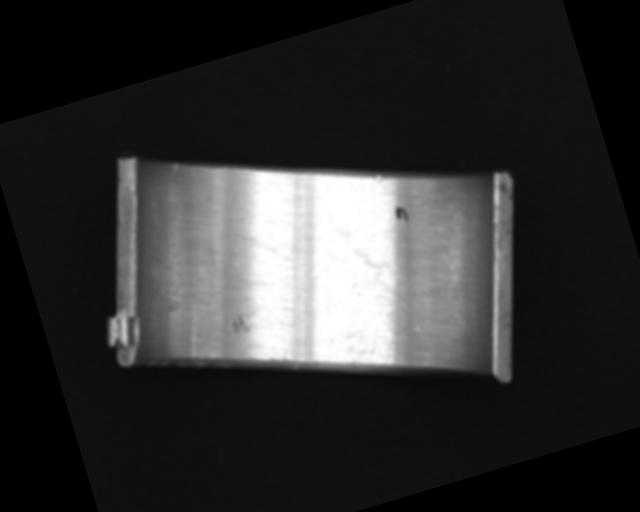blot: (344, 235, 400, 297), (392, 202, 410, 226)
bruise: (229, 313, 251, 338), (373, 173, 383, 183)
nick: (230, 219, 293, 277), (167, 162, 180, 177)
